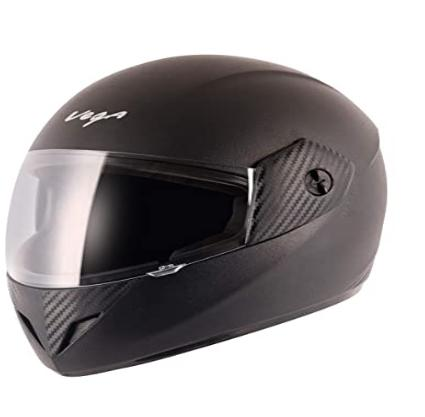helmet: (4, 55, 413, 386)
